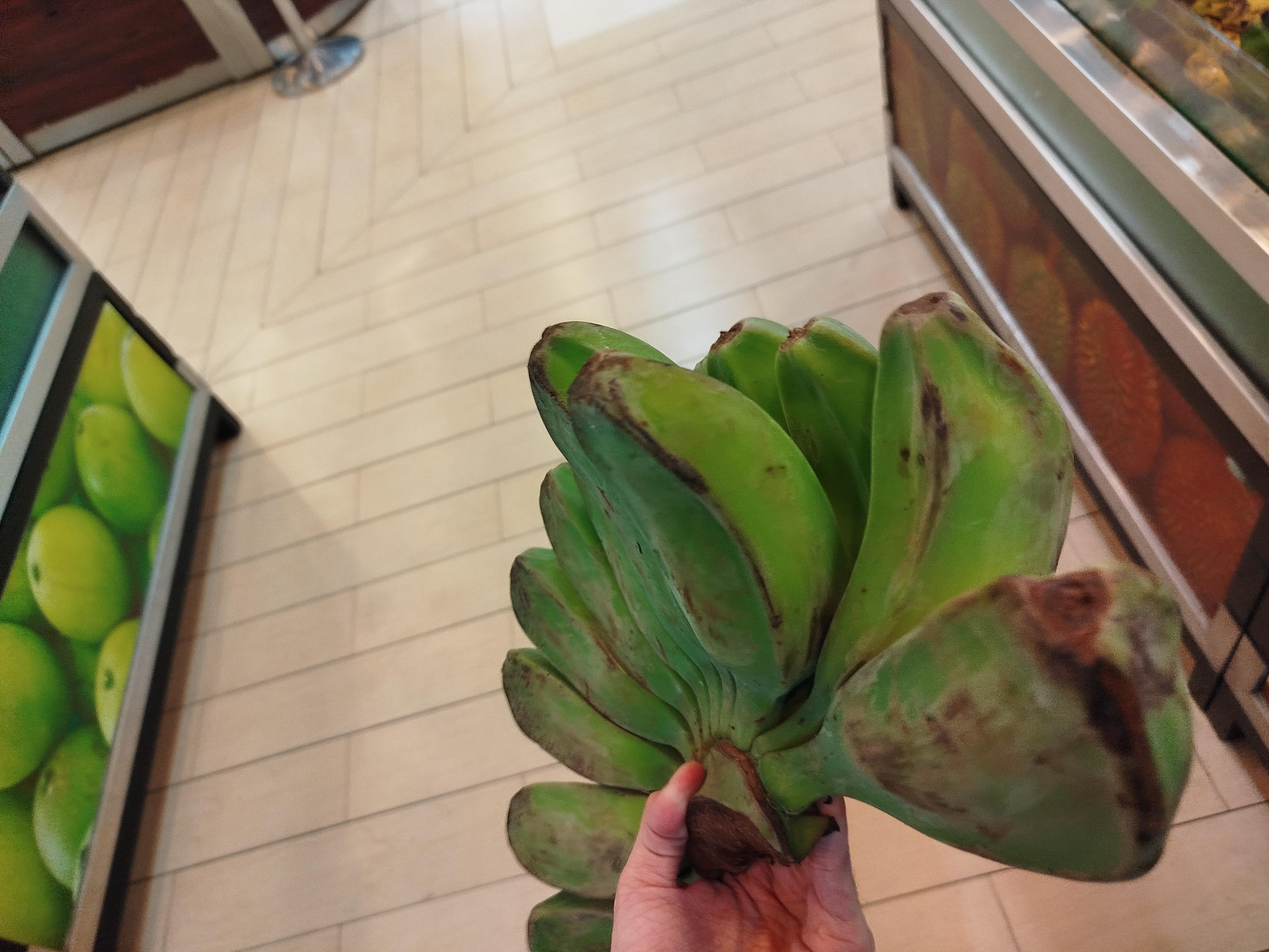underripe: (503, 293, 1192, 952)
